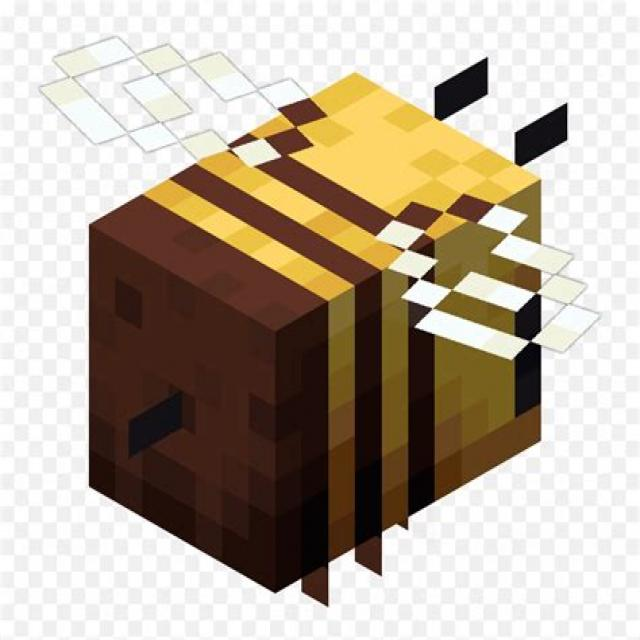Bee: (16, 26, 613, 617)
